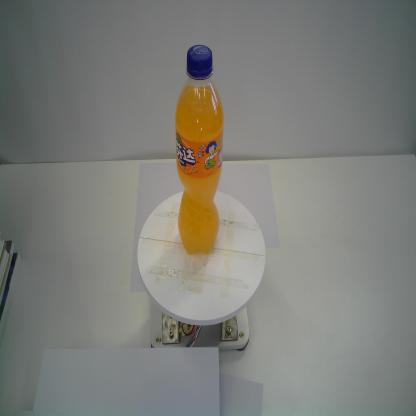Drink: (172, 40, 226, 257)
